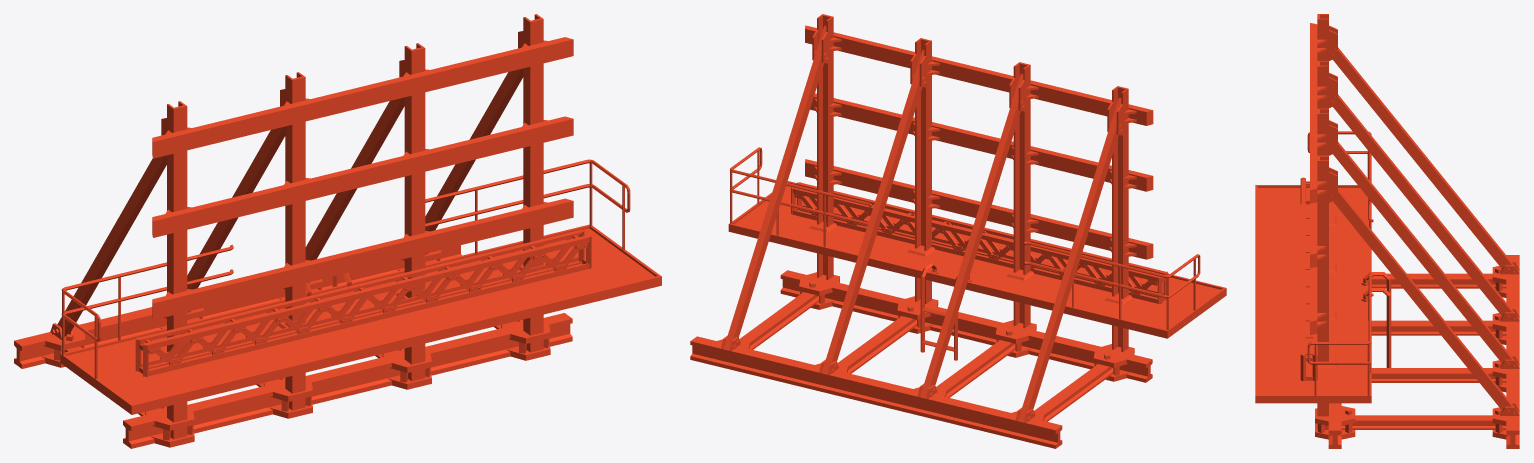
Rendered from SM_Billboard_D_Stand_City.fbx.
The picture shows the model from 3 angles, left to right: view 1: azimuth 30°, elevation 25°; view 2: azimuth 150°, elevation 25°; view 3: azimuth 270°, elevation 25°; orthographic projection. The views are drawn at different scales.
Parts seen in each view (by area): view 1: SM_Billboard_D_Stand_City; view 2: SM_Billboard_D_Stand_City; view 3: SM_Billboard_D_Stand_City.
Boxes of the visible parts, x1,y1,x2,y2 form: SM_Billboard_D_Stand_City: (14,14,661,448); SM_Billboard_D_Stand_City: (690,14,1226,448); SM_Billboard_D_Stand_City: (1255,14,1519,448).
Size of the model in its own units: 6.09 by 3.67 by 3.21.
